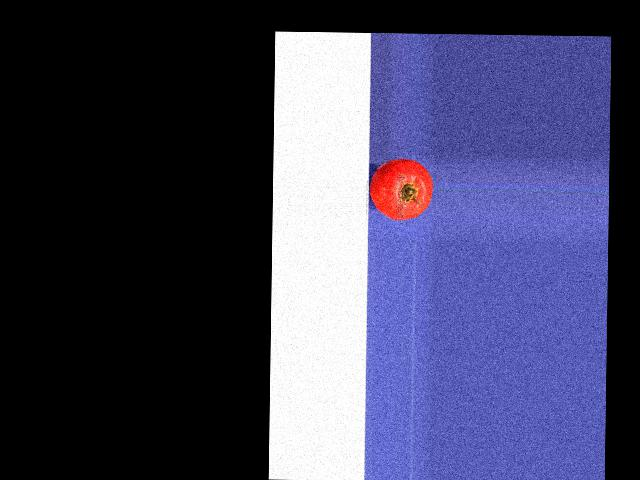tomato: (370, 158, 432, 220)
